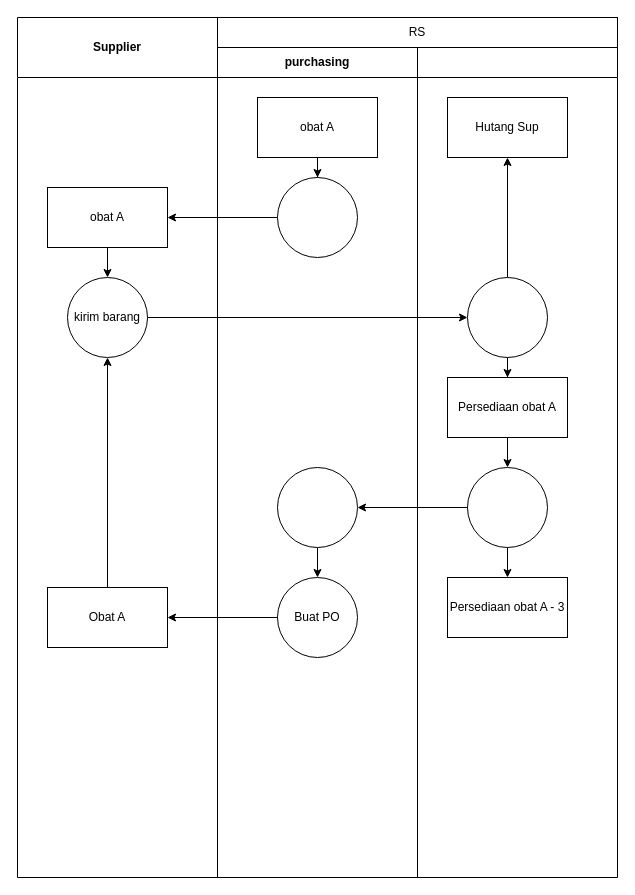
This 635x895 diagram has some shape labels left out. The shapes that lost their labels are listed below. From the top down, each one's box as (x1, y1, x2, y2) in pixels, then its label:
(276, 176, 358, 258): PO
(466, 276, 548, 358): terima barang
(416, 46, 618, 878): Gudang / farmasi
(276, 466, 358, 548): PR otomatis
(466, 466, 548, 548): penjualan qty 3
